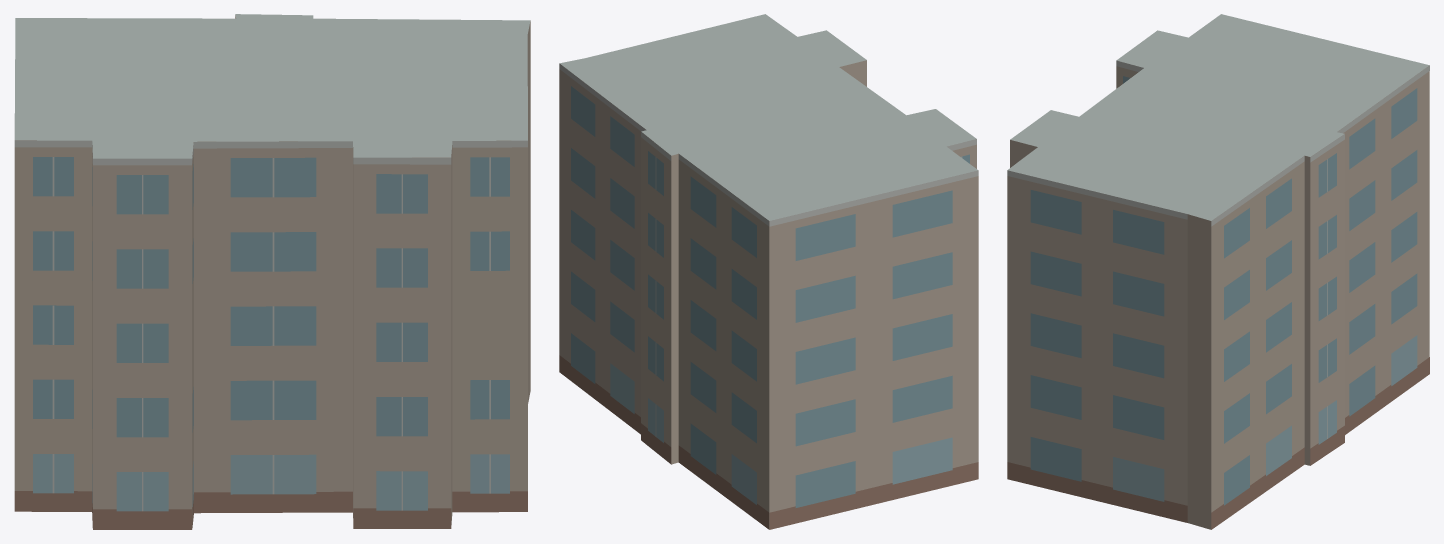
The model's file is survey-upis-32753766.glb.
The picture shows the model from 3 angles, left to right: view 1: azimuth 30°, elevation 25°; view 2: azimuth 150°, elevation 25°; view 3: azimuth 270°, elevation 25°; orthographic projection. The views are drawn at different scales.
Parts seen in each view (by area): view 1: survey-upis-32753766.tmp; view 2: survey-upis-32753766.tmp; view 3: survey-upis-32753766.tmp.
Part boxes in pixels (x1,y1,x2,y2): survey-upis-32753766.tmp: (14,14,530,529); survey-upis-32753766.tmp: (559,14,978,529); survey-upis-32753766.tmp: (1007,14,1429,529).
Bounding box in the file's own units: 19.21 × 13.36 × 16.57.
